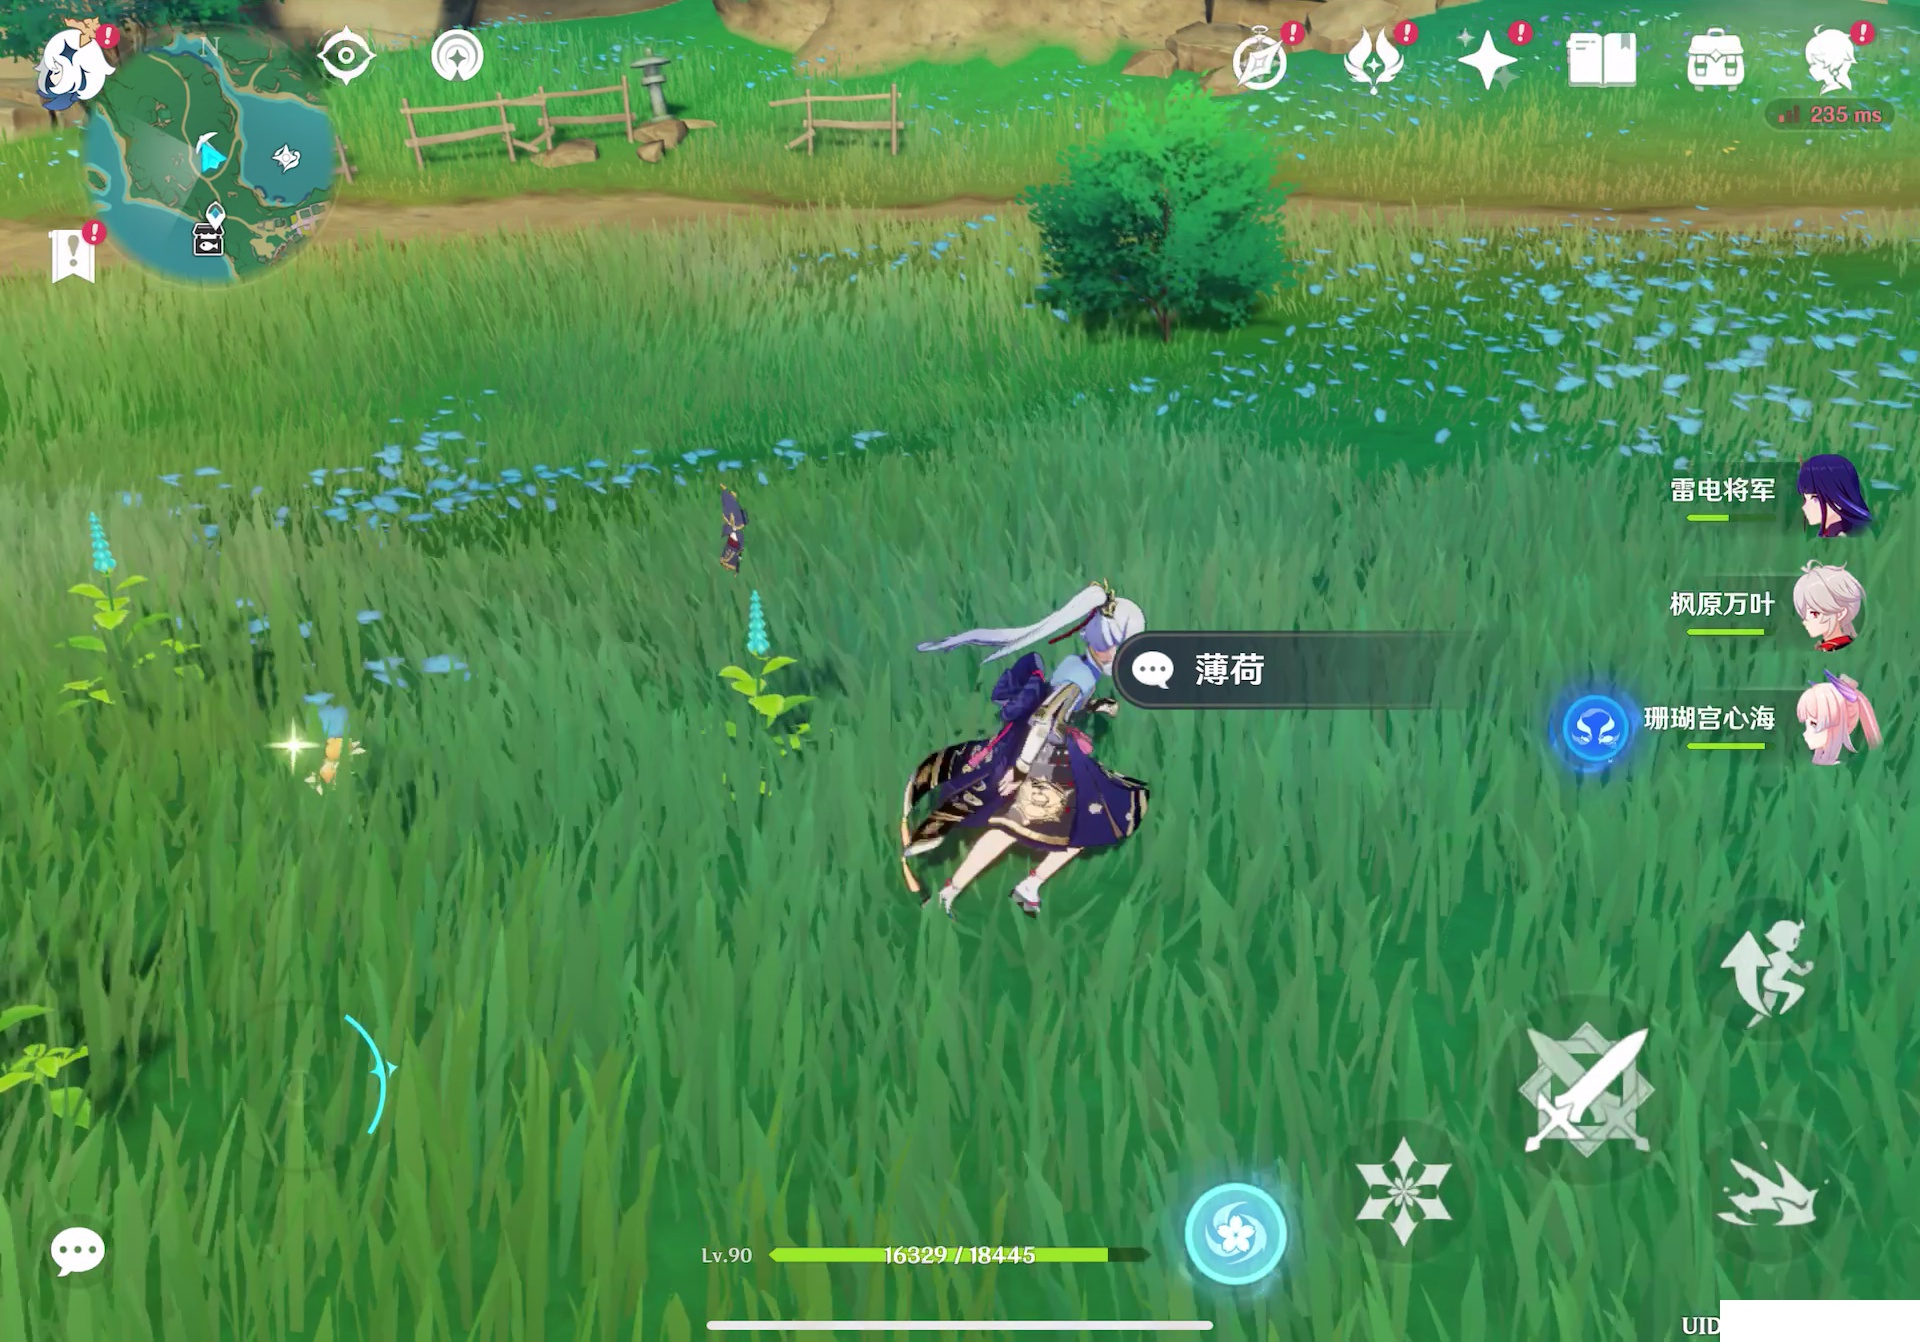没用的甜甜花: (290, 728, 379, 823)
没用的薄荷: (53, 522, 206, 748), (690, 582, 835, 805)
神里绫龟: (868, 562, 1191, 947)
